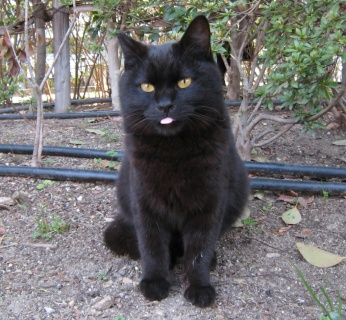Cat: (105, 12, 255, 311)
